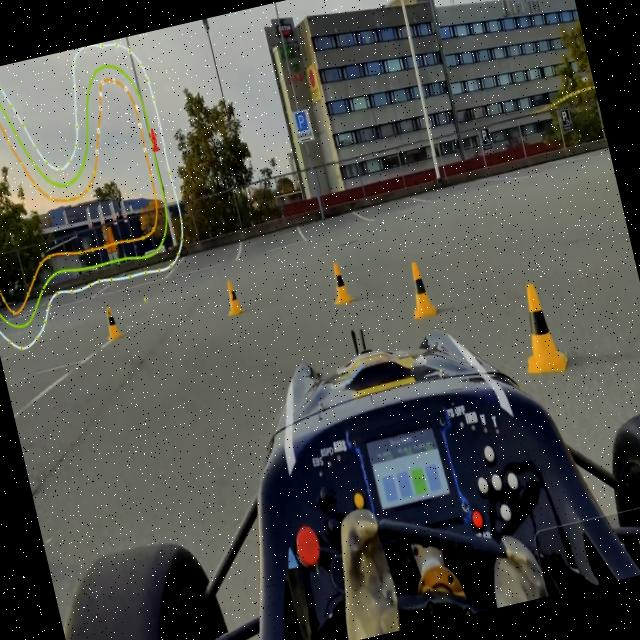yellow_cone: (510, 280, 569, 379), (402, 258, 438, 320), (327, 260, 354, 306), (220, 276, 245, 318), (102, 306, 124, 344)
